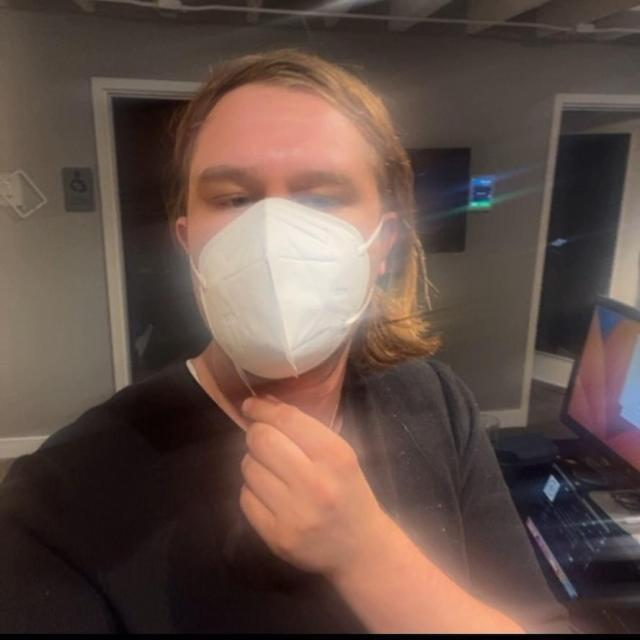no hat: (155, 40, 450, 413)
